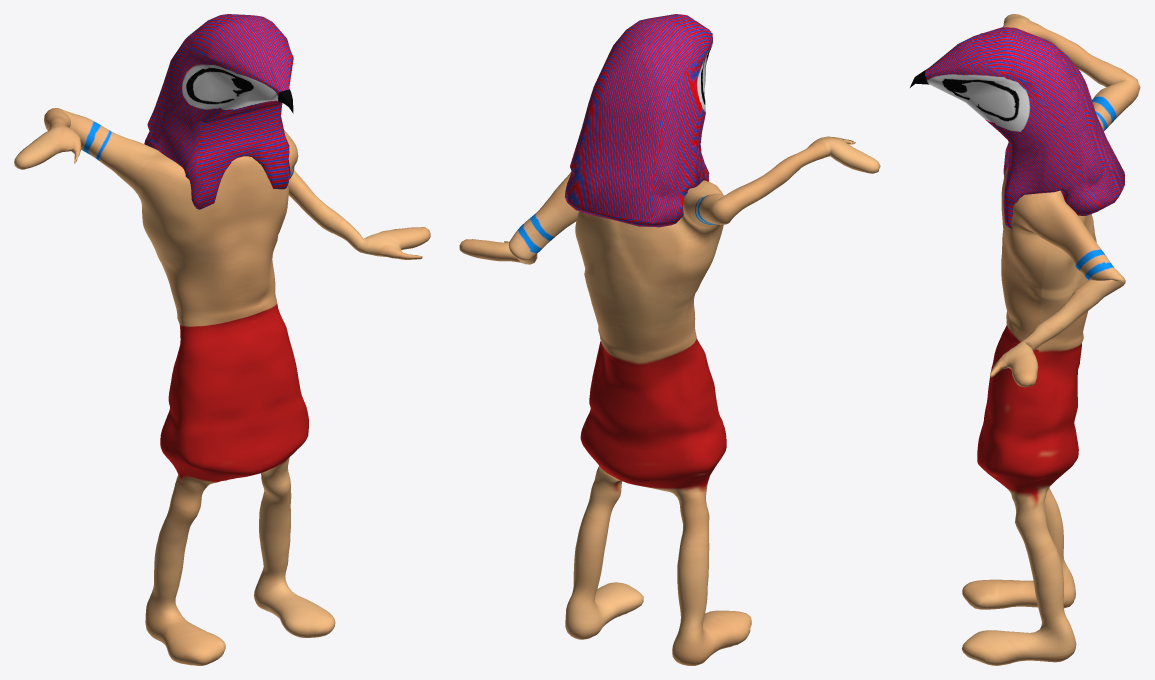
File: Statue2.fbx
The picture shows the model from 3 angles, left to right: view 1: azimuth 30°, elevation 25°; view 2: azimuth 150°, elevation 25°; view 3: azimuth 270°, elevation 25°; orthographic projection. The views are drawn at different scales.
Visible parts, largest first — view 1: GodBody_low; view 2: GodBody_low; view 3: GodBody_low.
Part boxes in pixels (x1,y1,x2,y2): GodBody_low: [14, 14, 430, 665]; GodBody_low: [459, 14, 880, 665]; GodBody_low: [910, 14, 1140, 665].
Size of the model in its own units: 570 by 808 by 282.
